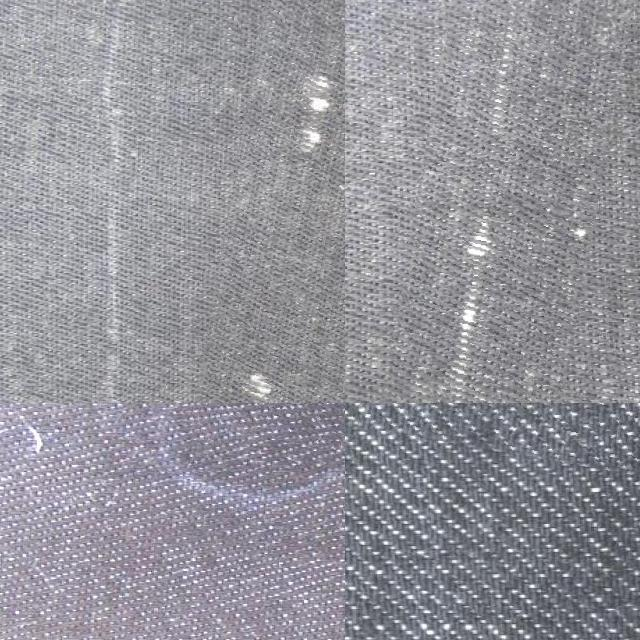stains: (386, 0, 617, 403), (192, 0, 345, 403), (345, 403, 640, 482), (179, 403, 345, 450)
